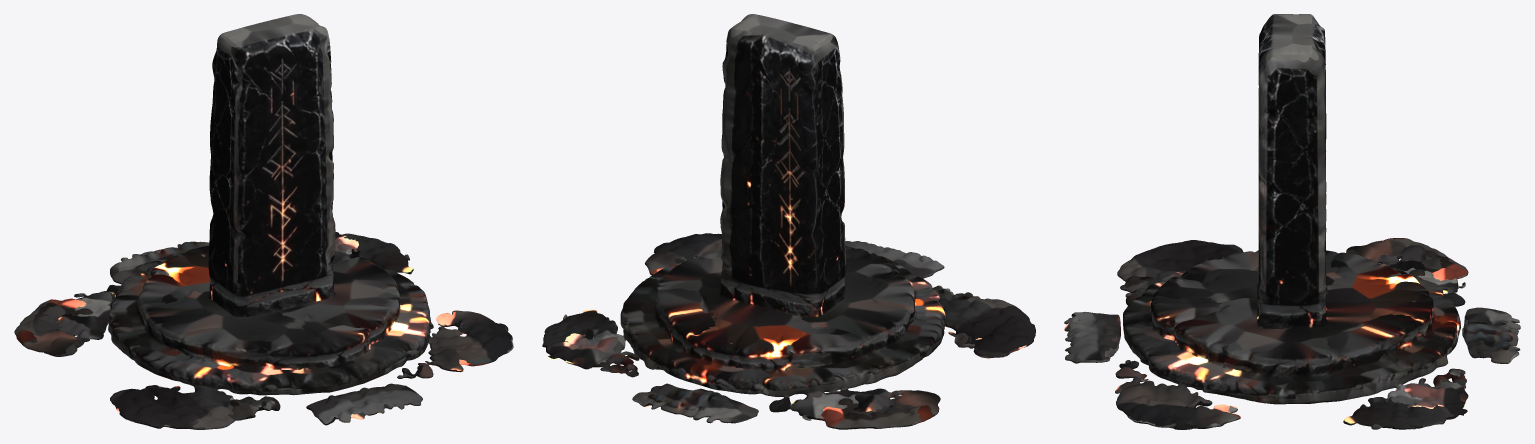
File: struct_obsidian_monolith.glb
The picture shows the model from 3 angles, left to right: view 1: azimuth 30°, elevation 25°; view 2: azimuth 150°, elevation 25°; view 3: azimuth 270°, elevation 25°; orthographic projection.
Parts seen in each view (by area): view 1: geometry_0; view 2: geometry_0; view 3: geometry_0.
Part boxes in pixels (<box>): geometry_0: <box>14,14,513,429</box>; geometry_0: <box>542,14,1035,429</box>; geometry_0: <box>1064,14,1520,429</box>.
Size of the model in its own units: 11.1 by 8.5 by 11.32.
Materials: 1 (1 with a texture image).
